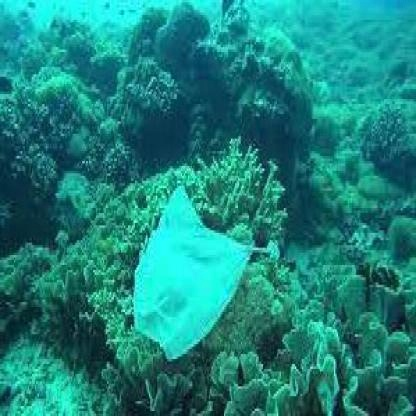pbag: (131, 181, 280, 366)
